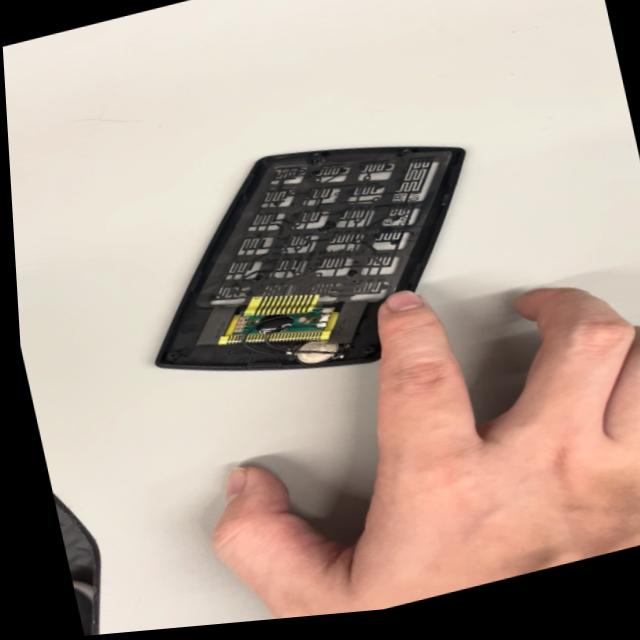front_panel: (115, 101, 496, 415)
